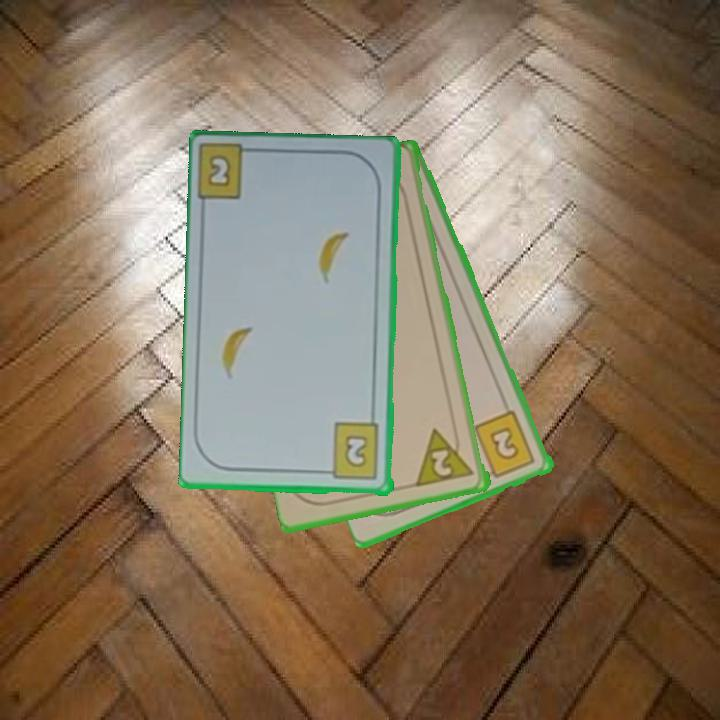2b: (470, 407, 538, 481), (320, 420, 383, 483), (204, 151, 234, 191)
2p: (414, 422, 478, 490)
